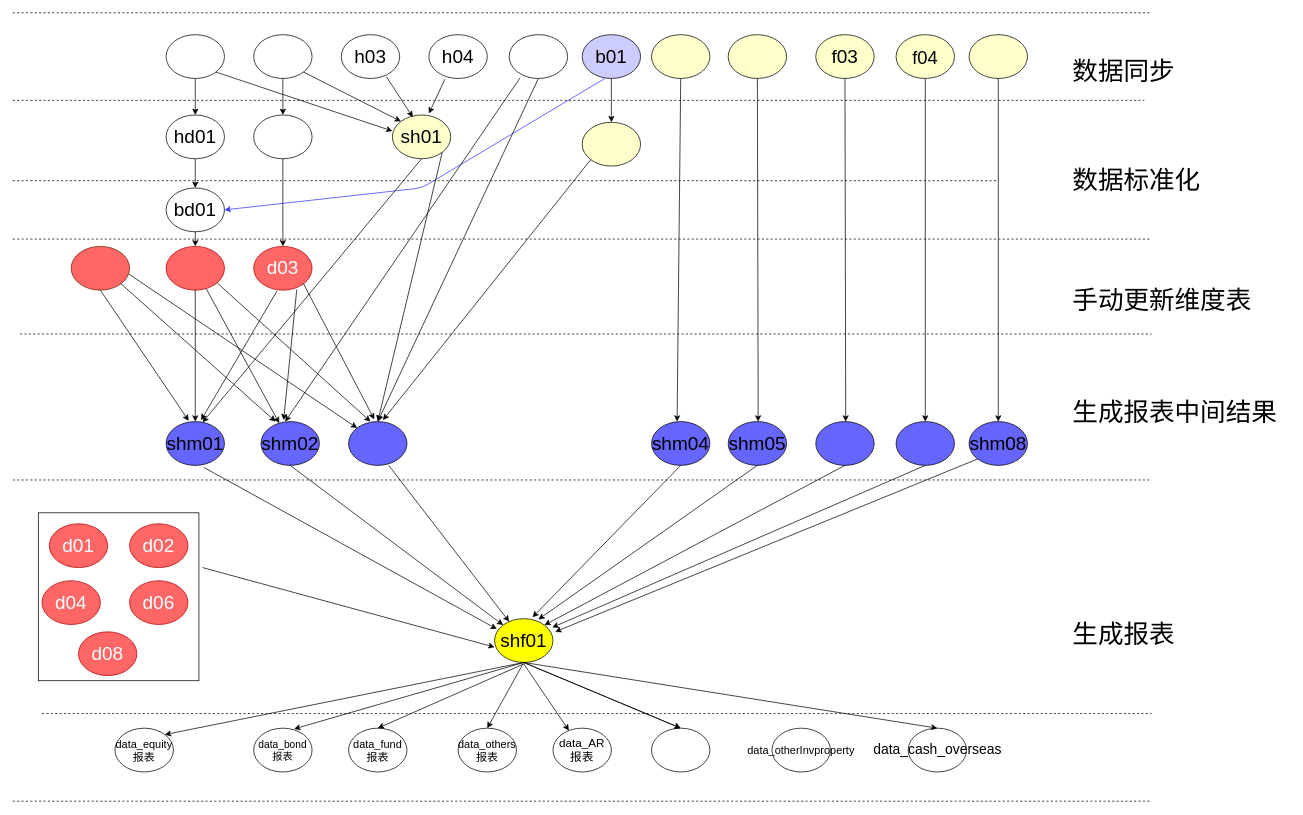
Image size: 1303x815. Some labels were removed from this diagram. The shapes that lost their labels are listed below. From the top down, each one's centre as x and y in pixels, then its label:
At (x=194, y=56): "h01".
At (x=282, y=56): "h02".
At (x=538, y=56): "h05".
At (x=680, y=56): "f01".
At (x=757, y=56): "f02".
At (x=997, y=56): "f05".
At (x=282, y=136): "hd02".
At (x=611, y=144): "ba01".
At (x=100, y=268): "d07".
At (x=194, y=268): "d05".
At (x=377, y=443): "shm03".
At (x=844, y=443): "shm06".
At (x=924, y=443): "shm07".
At (x=680, y=749): "data_FixedAsset".
